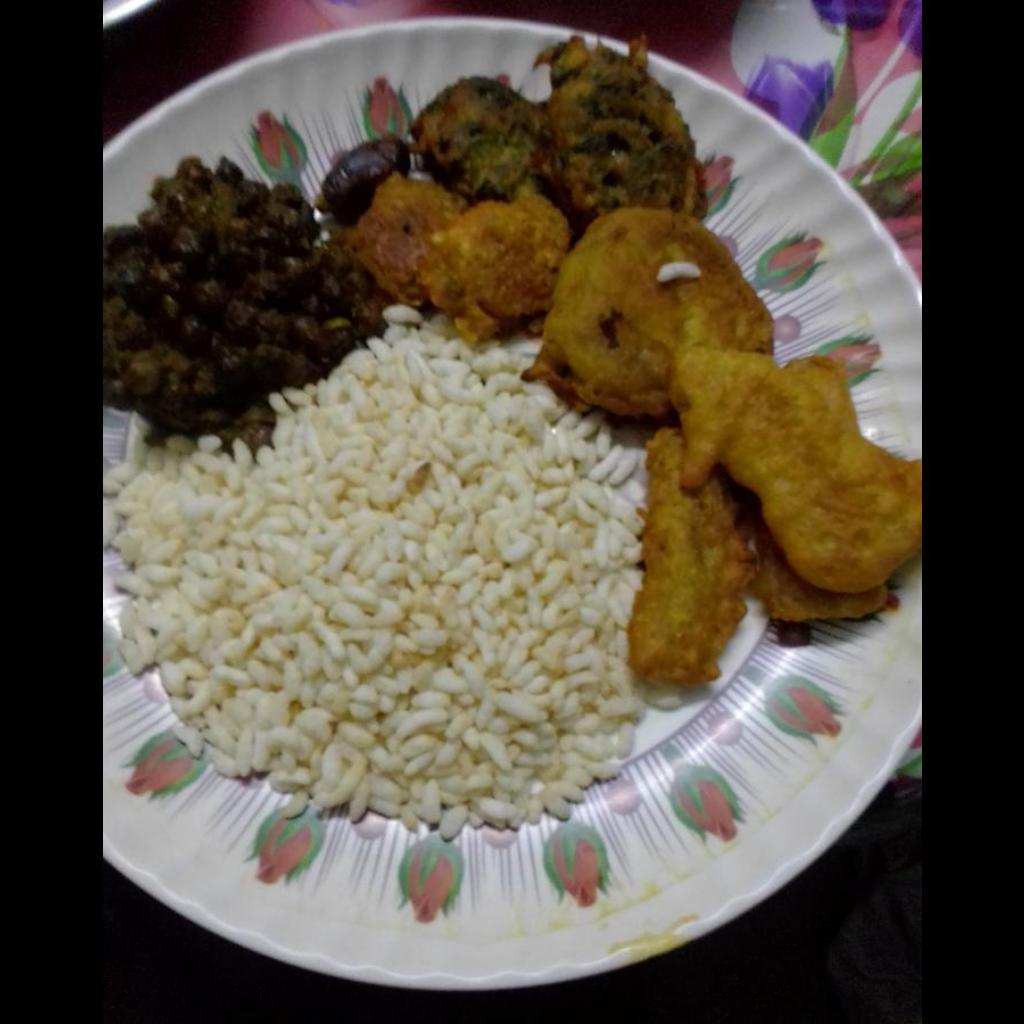beguni: (632, 335, 920, 684)
chola: (102, 158, 385, 436)
chop-alu: (523, 207, 775, 418)
dates: (315, 135, 408, 225)
peyaju: (355, 180, 556, 320)
piyaju: (408, 38, 704, 237)
puffed-rice: (103, 334, 632, 839)
